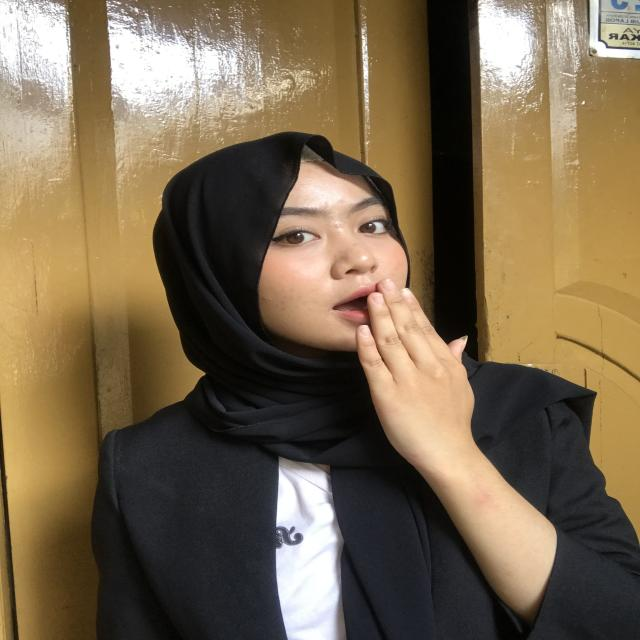ngantuk: (331, 271, 508, 508)
